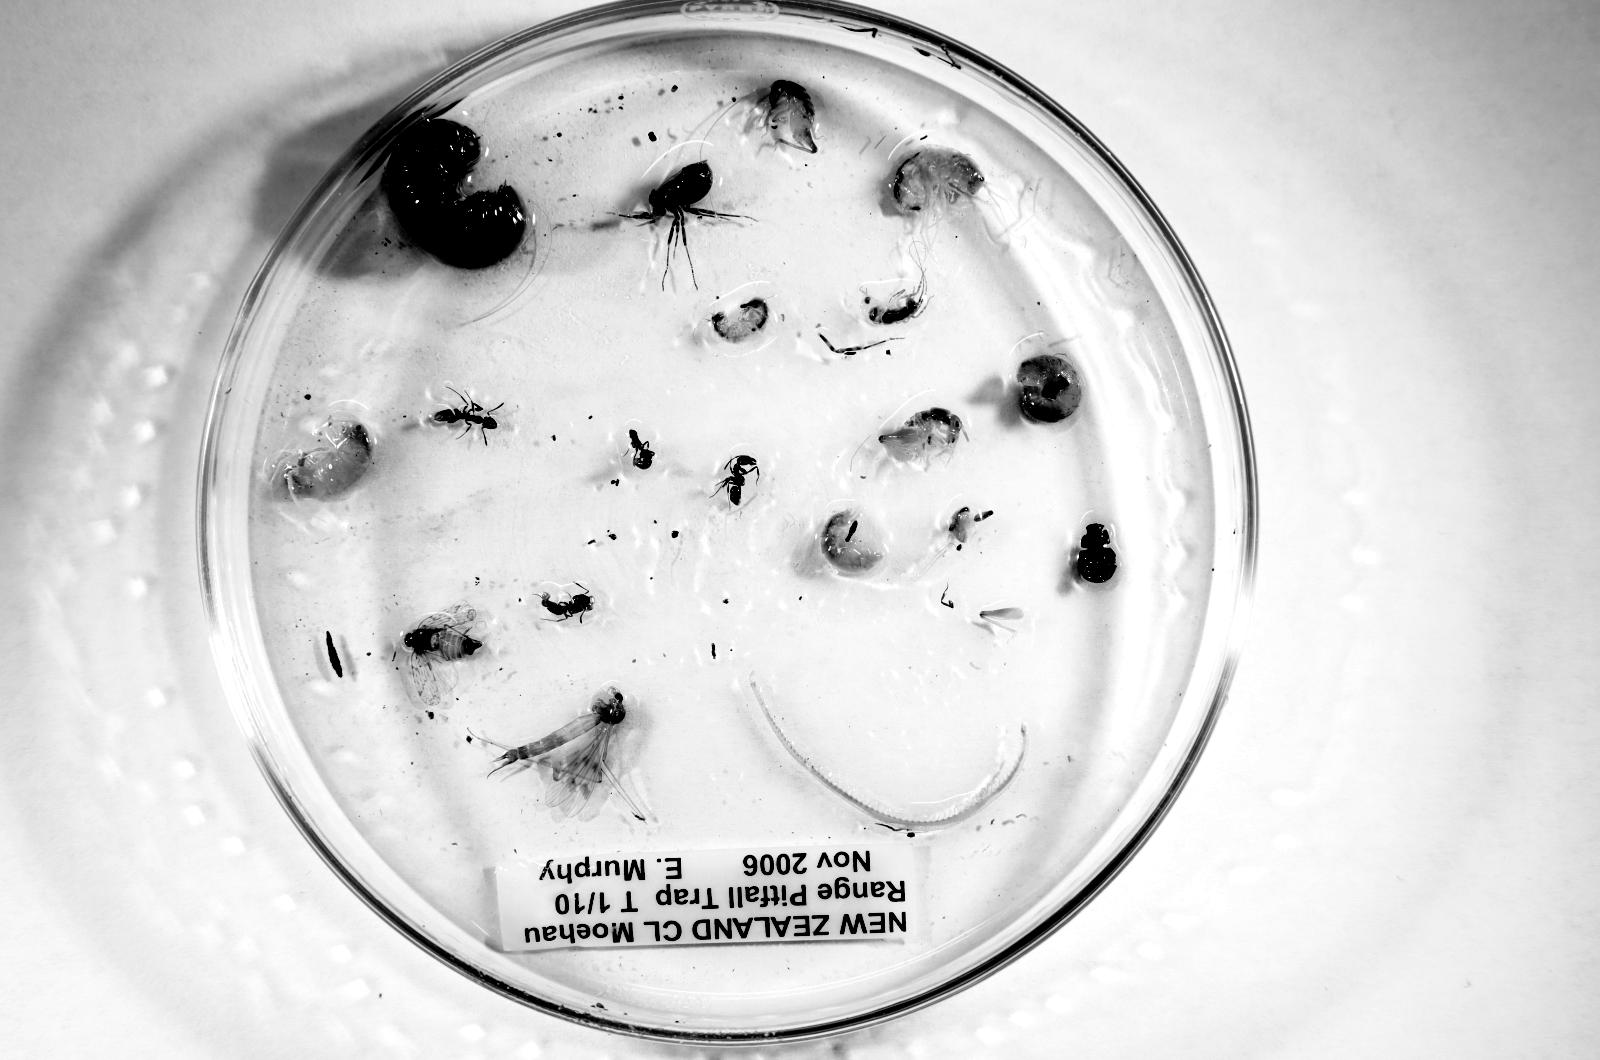amphipoda: (282, 417, 374, 499), (891, 145, 986, 218), (1016, 354, 1082, 423), (820, 507, 882, 574), (711, 297, 768, 343)
chilopoda: (749, 678, 1028, 836)
coleoptera: (1077, 523, 1116, 584)
formicidae: (433, 392, 500, 442), (714, 455, 759, 507), (543, 592, 593, 619), (628, 429, 655, 469)
hemiptera: (404, 602, 485, 706)
isopoda: (387, 119, 525, 264)
opiliones: (625, 160, 749, 251)
orthoptera: (879, 408, 964, 463), (763, 80, 817, 153)
tipulidae: (495, 689, 626, 816)
